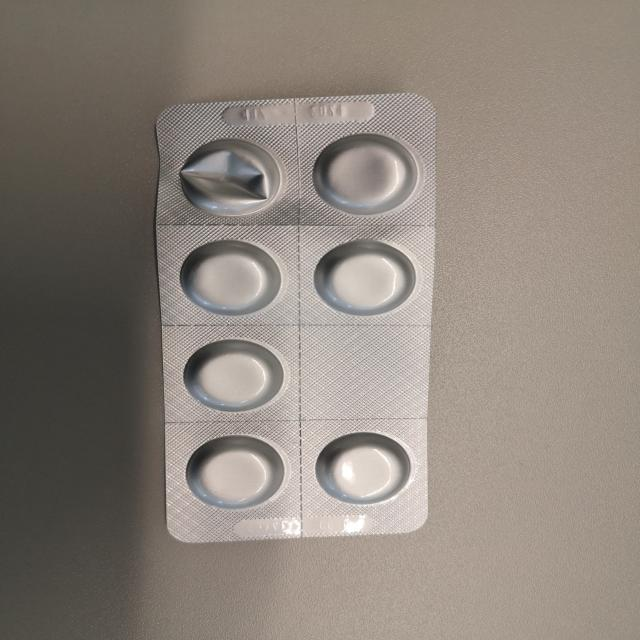Empty: (175, 136, 286, 219)
Pill: (310, 132, 421, 218), (311, 235, 418, 318), (175, 237, 286, 317), (180, 432, 288, 511), (179, 336, 287, 414), (313, 430, 416, 505)
